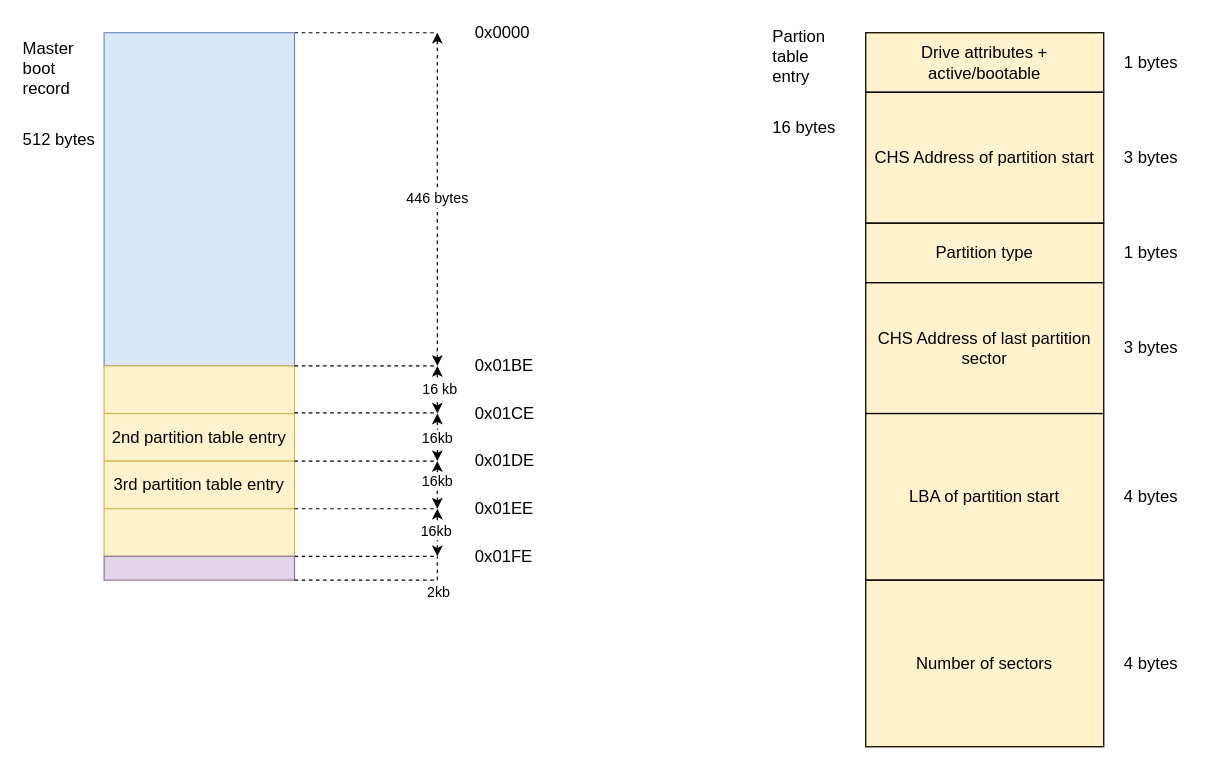
Image size: 1207x768. Some labels were removed from this diagram. Each missing label, with the box of its shape:
1st partition table entry: (103, 365, 295, 414)
4th partition table entry: (103, 508, 295, 556)
Executable flat binary code / bootstrap &optional info: (103, 32, 295, 366)
Magic numbers: (103, 555, 295, 580)
